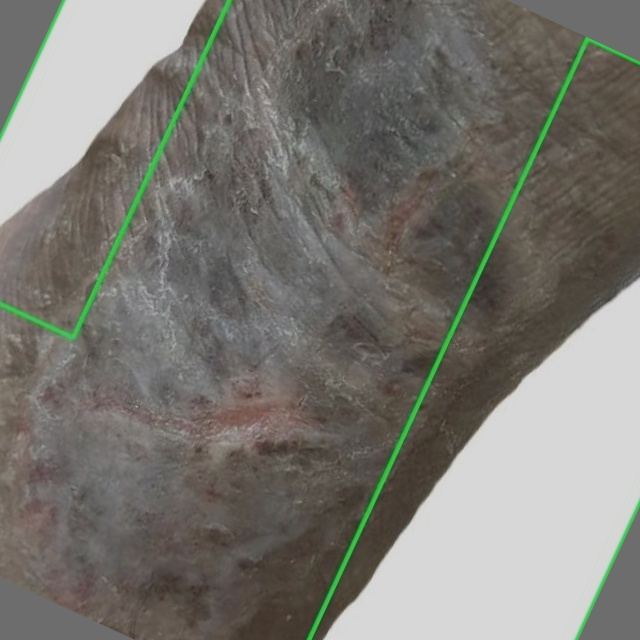Eczema: (309, 38, 639, 639), (0, 0, 229, 337)
